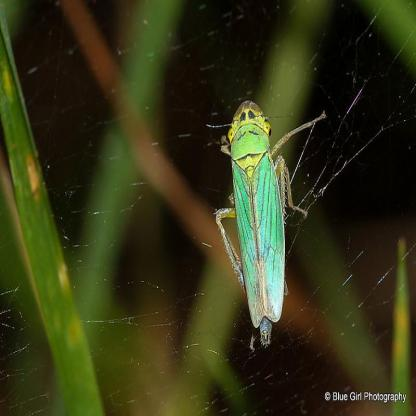Green-Leafhopper: (205, 95, 332, 350)
